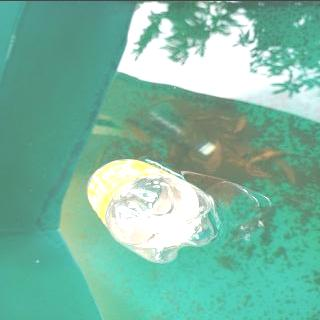bottle: (82, 154, 221, 264)
